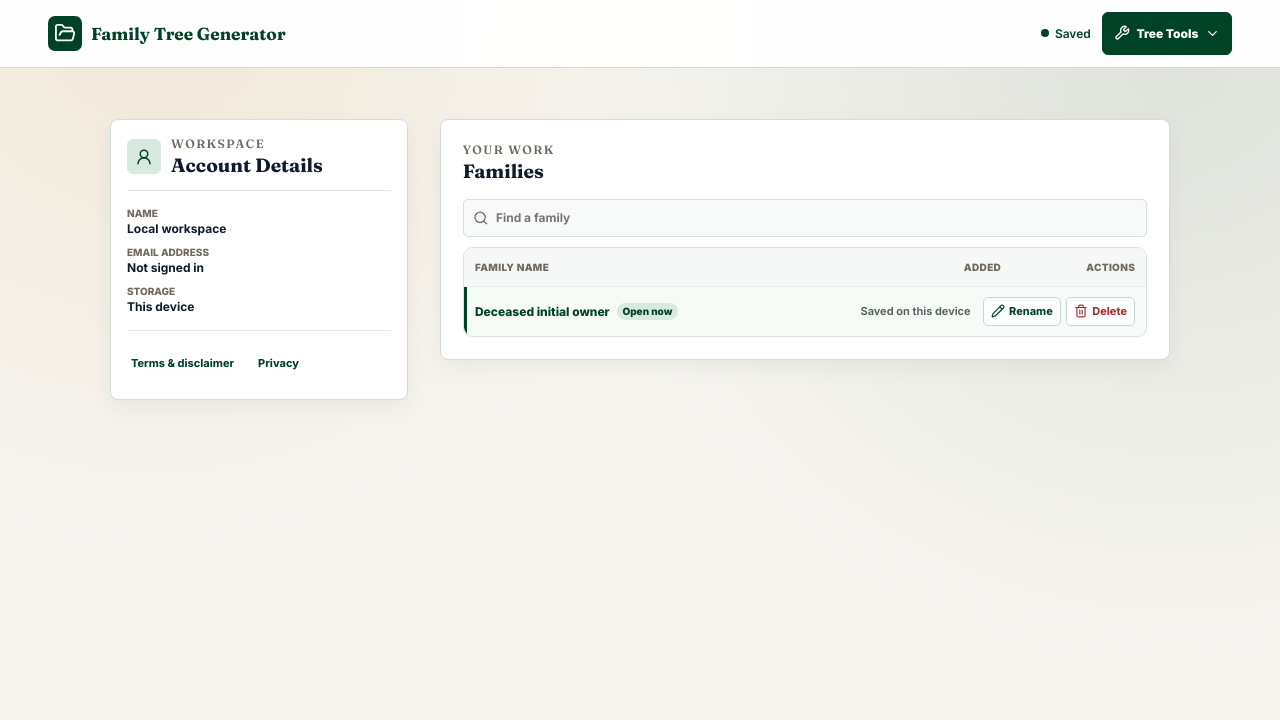
Test case: App local recovery › shows the current property value as notional on a deceased initial owner's tree card
Click the button with class "family-name-button": [662, 311] box [475,303,850,320]
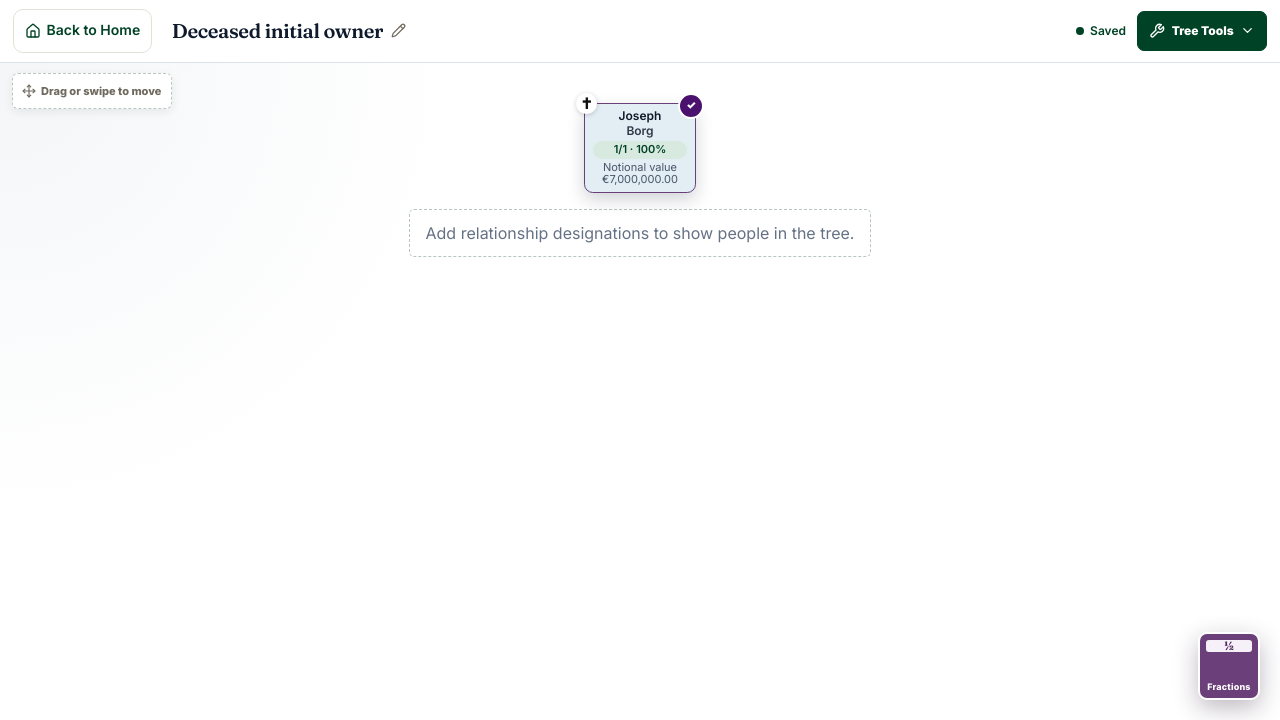
Check: the button "Joseph Borg 1/1 · 100% Notional value €7,000,000.00" is shown, box [584,103,696,193]
